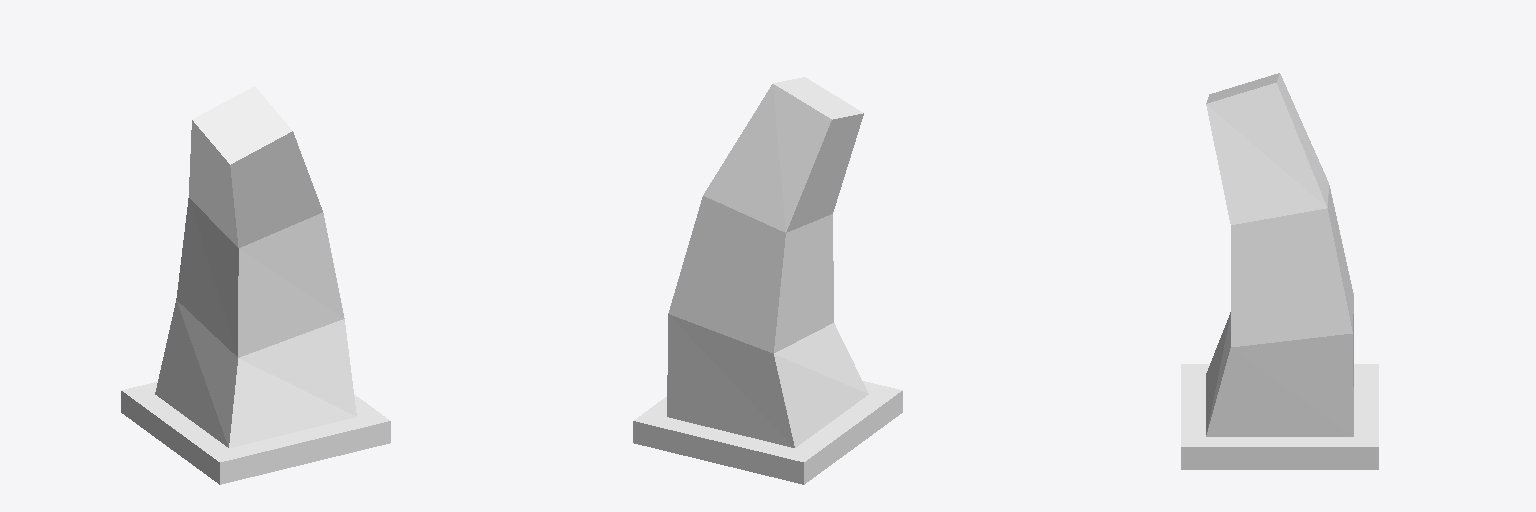
File: pillar_diag.obj
3 views of the same model, side by side, from view 1: azimuth 30°, elevation 25°; view 2: azimuth 150°, elevation 25°; view 3: azimuth 270°, elevation 25° (orthographic).
Visible parts, largest first — view 1: prong, base; view 2: prong, base; view 3: prong, base.
Part boxes in pixels (x1,y1,x2,y2): prong: (155,86,356,447); base: (121,382,390,484); prong: (667,77,868,447); base: (633,381,902,484); prong: (1206,73,1353,436); base: (1181,364,1378,469).
Bounding box in the file's own units: 1 × 1.93 × 1.